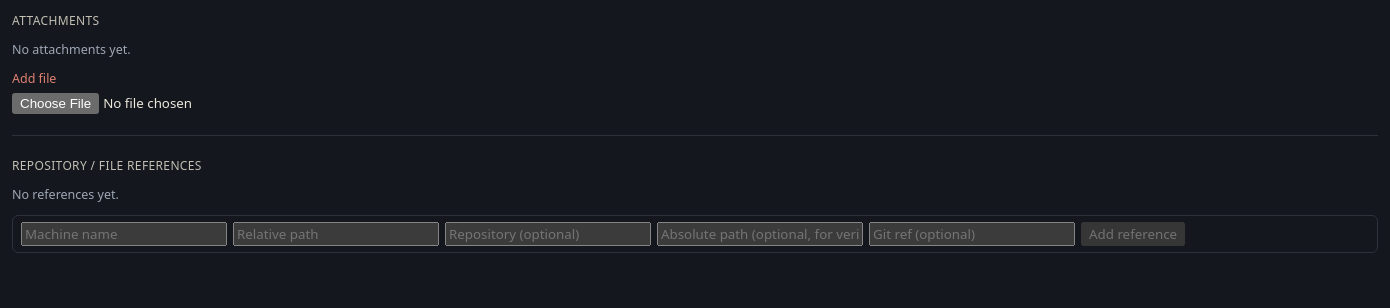
Test case: FilesPanel › creates a file reference from the form, including an optional git ref, and clears the draft on success
Expected: the text "No references yet." is shown, [12, 186, 119, 203]
In the field labelled "Machine name": (124, 234) [21, 222, 227, 246], type "laptop"
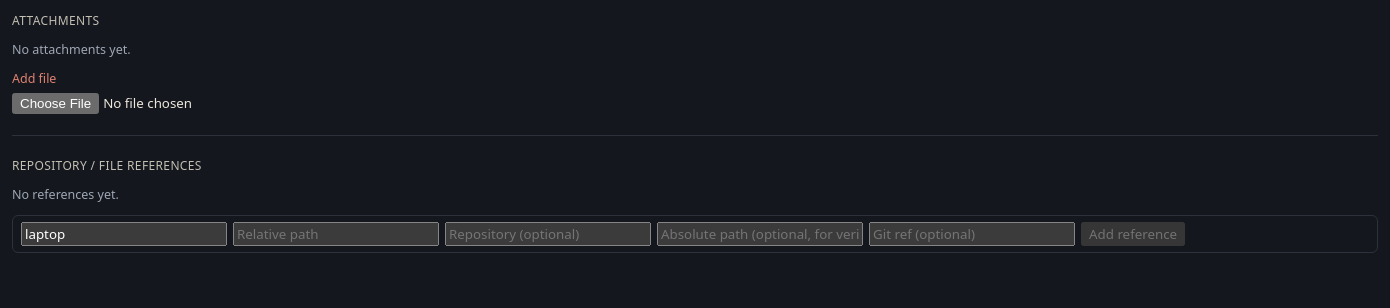
In the field labelled "Relative path": (336, 234) [233, 222, 439, 246], type "repo/README.md"
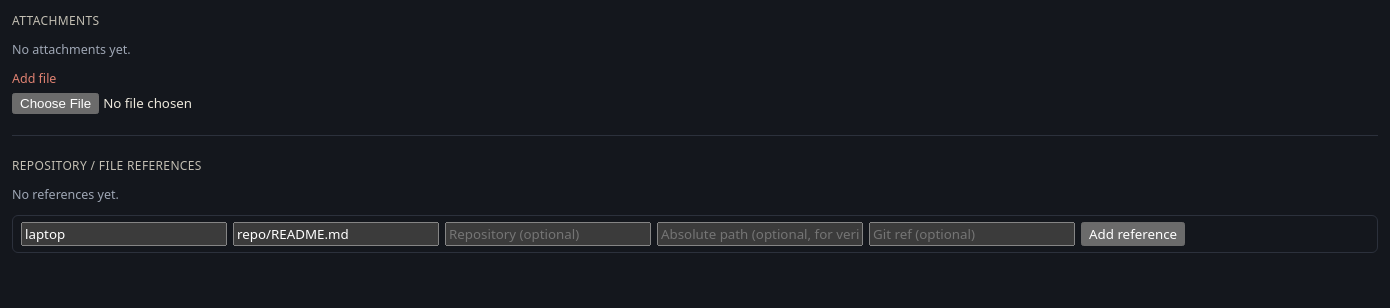
In the field labelled "Git ref (optional)": (972, 234) [869, 222, 1075, 246], type "main"
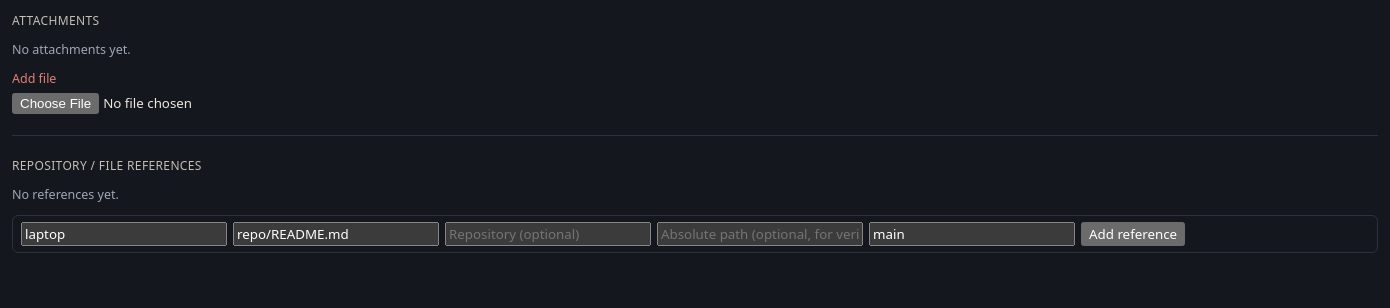
Click the button "Add reference": click(1133, 234) [1081, 222, 1185, 246]
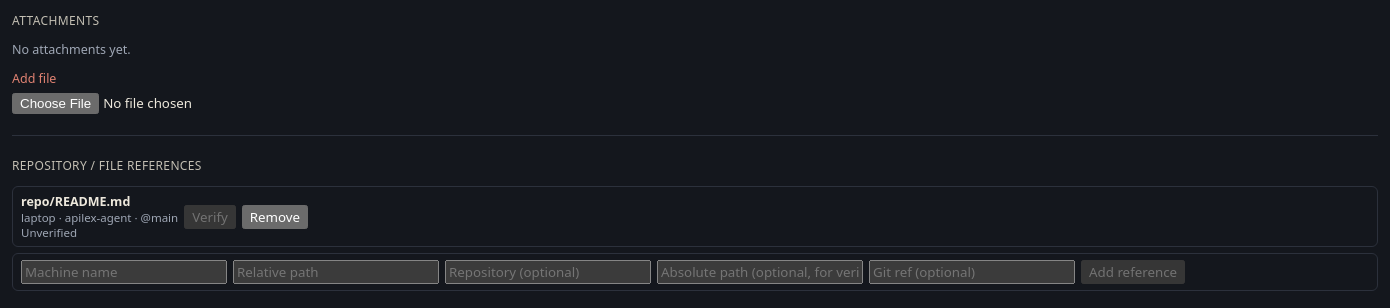
Now the text "repo/README.md" is shown, box [21, 193, 130, 210]
Now the field labelled "Machine name" is empty, box [21, 260, 227, 284]
